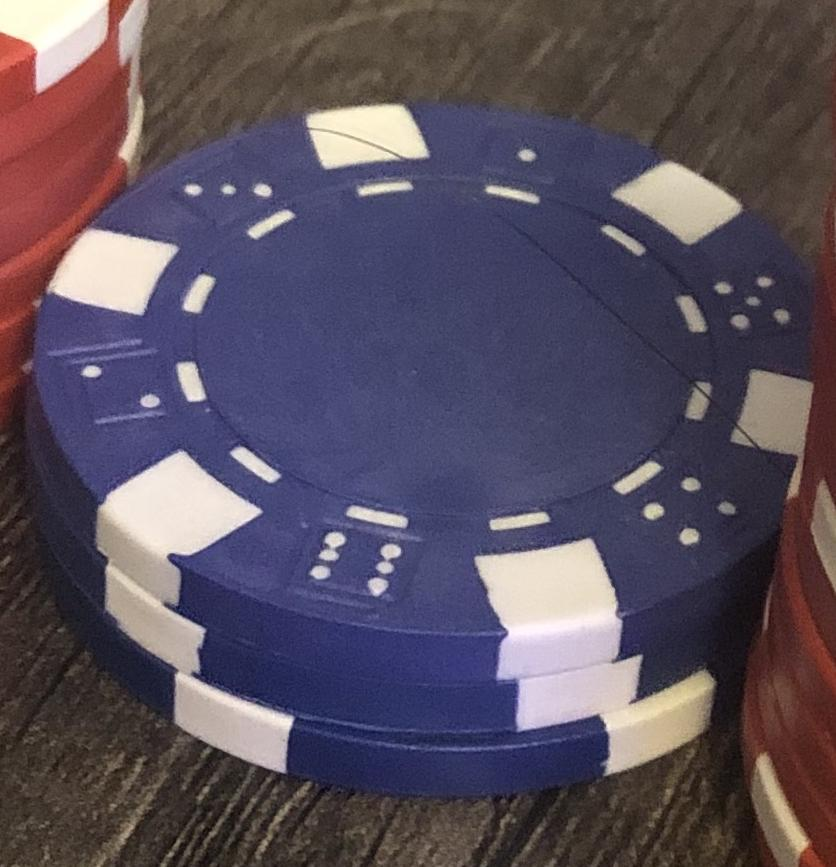Chip: (1, 1, 836, 867)
